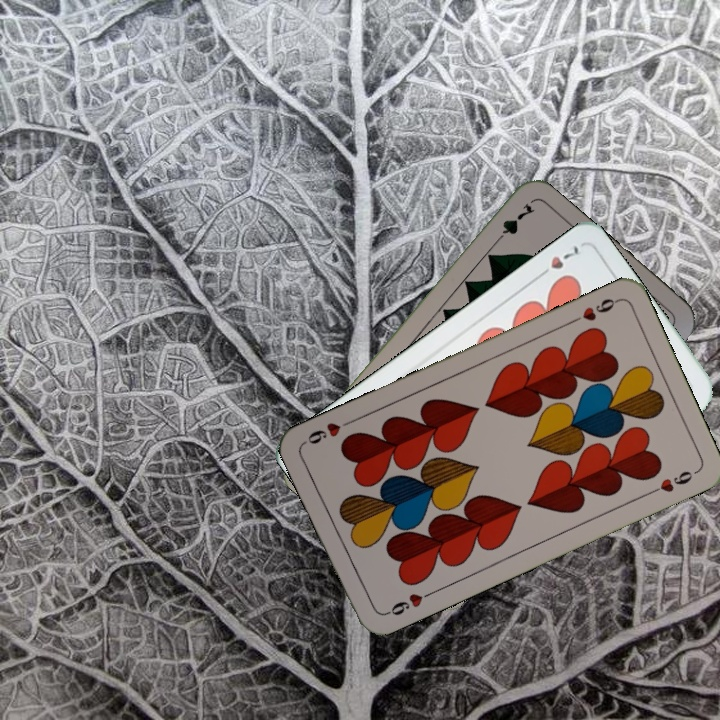G7: (489, 198, 537, 248)
H7: (532, 241, 582, 282)
H9: (566, 294, 621, 327), (380, 587, 436, 619)
